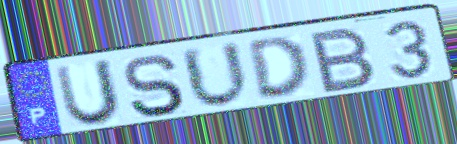3: (378, 18, 436, 81)
B: (309, 24, 380, 96)
D: (245, 34, 313, 101)
S: (121, 53, 188, 120)
U: (177, 39, 254, 111), (51, 56, 124, 129)
